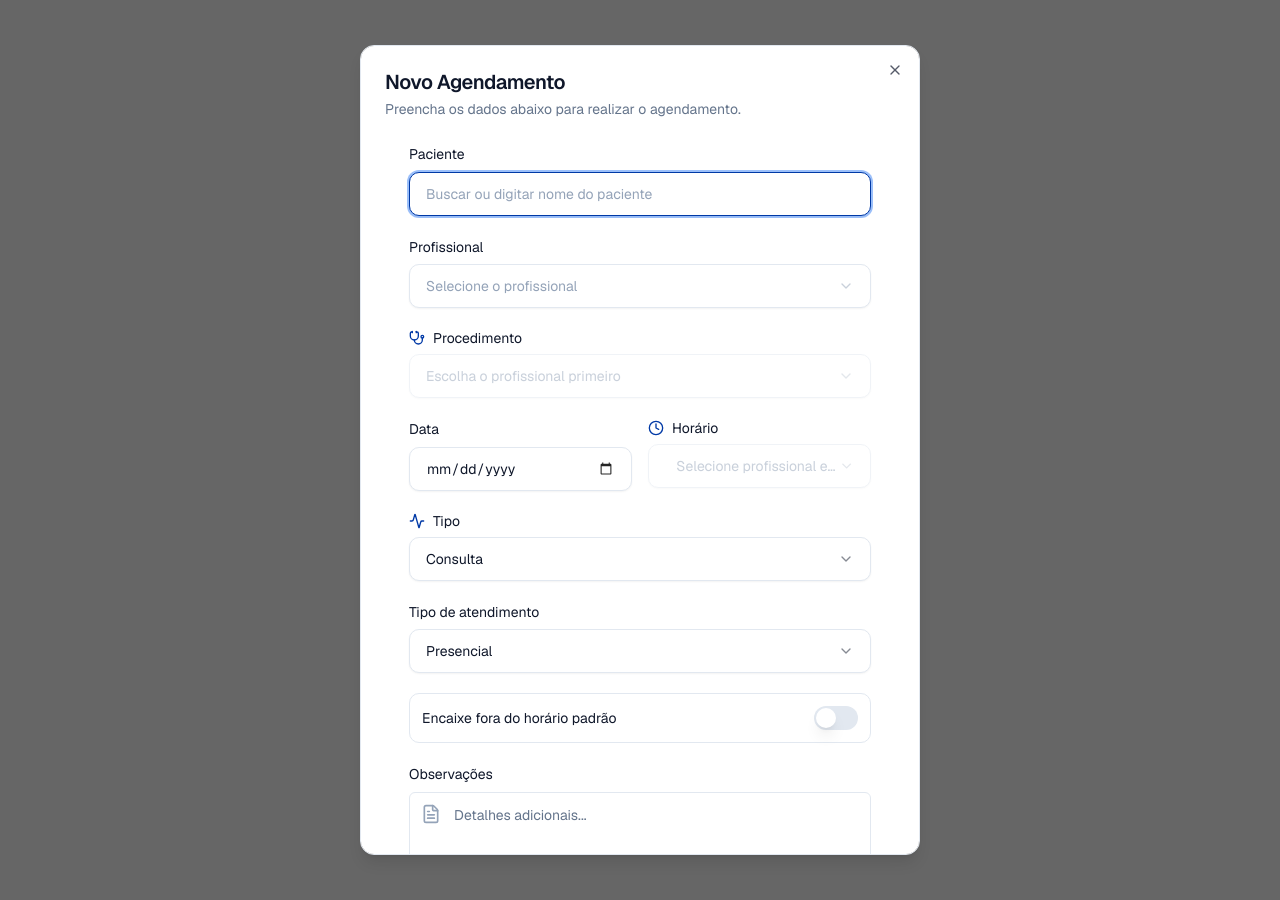
Test: NovoAgendamentoModal — paciente autocomplete + cadastro rápido › mostra opção de cadastro rápido quando a busca não acha paciente
In the dropdown with placeholder "Buscar ou digitar nome do paciente": {"x": 640, "y": 194} [409,172,871,216], type "João Inexistente"
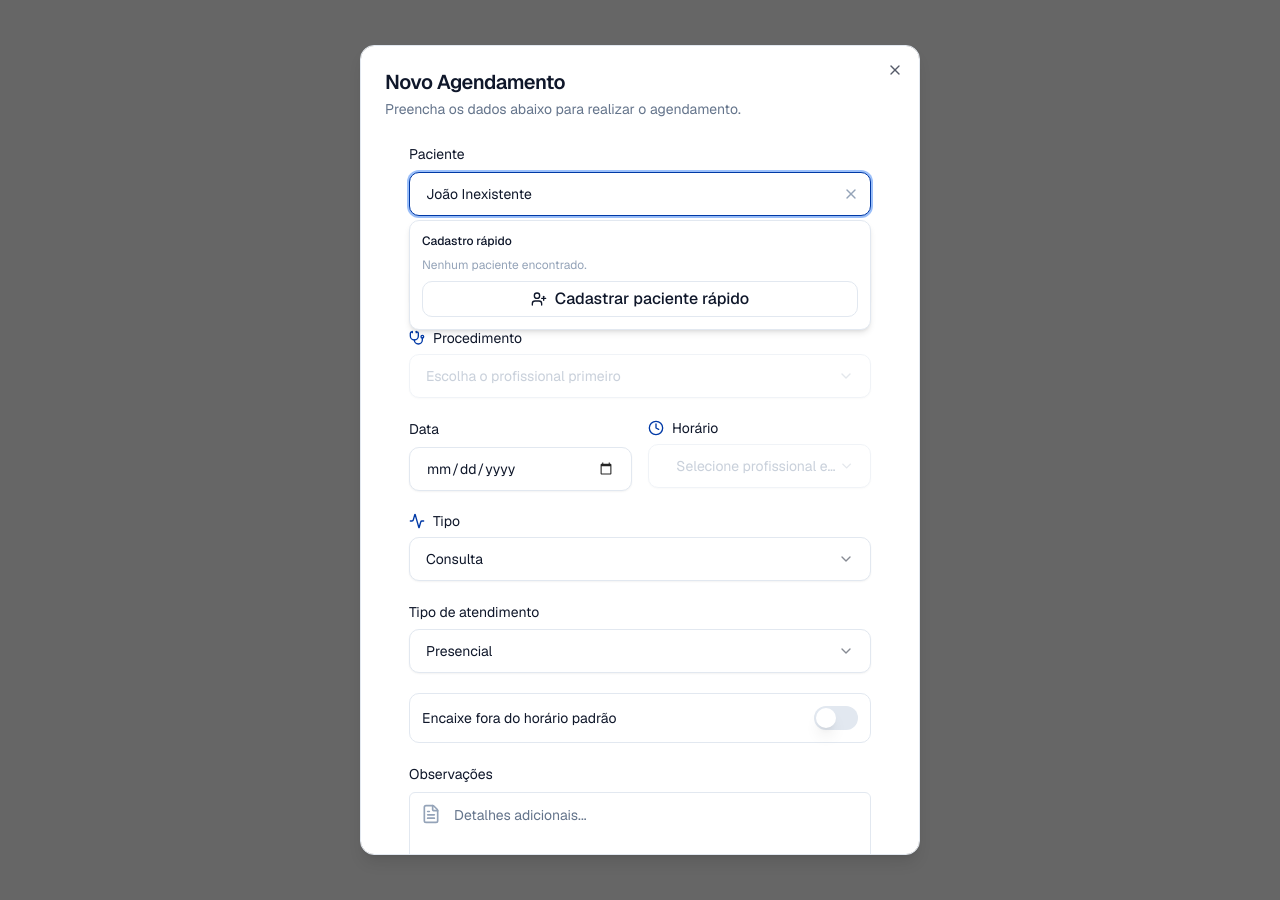
Now the text "Cadastro rápido" is shown, box [422,232,512,248]
